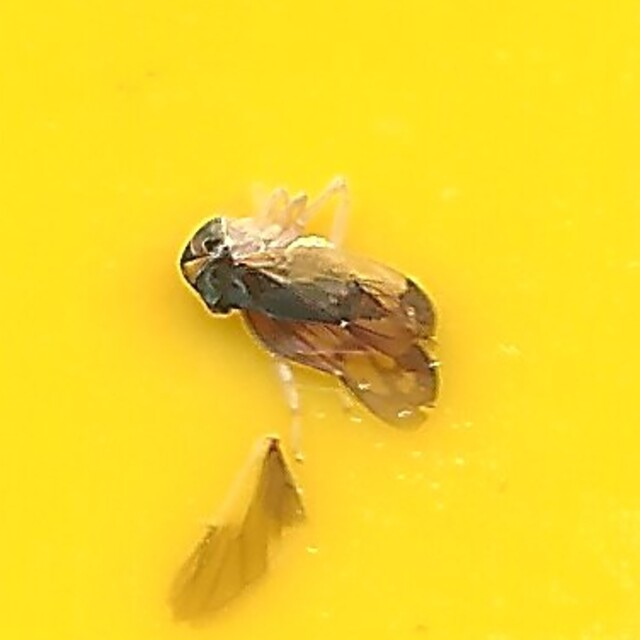Hemiptera: (170, 183, 470, 457)
